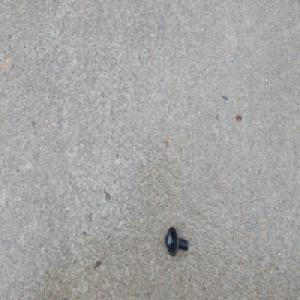BoltWasher: (164, 226, 188, 257)
